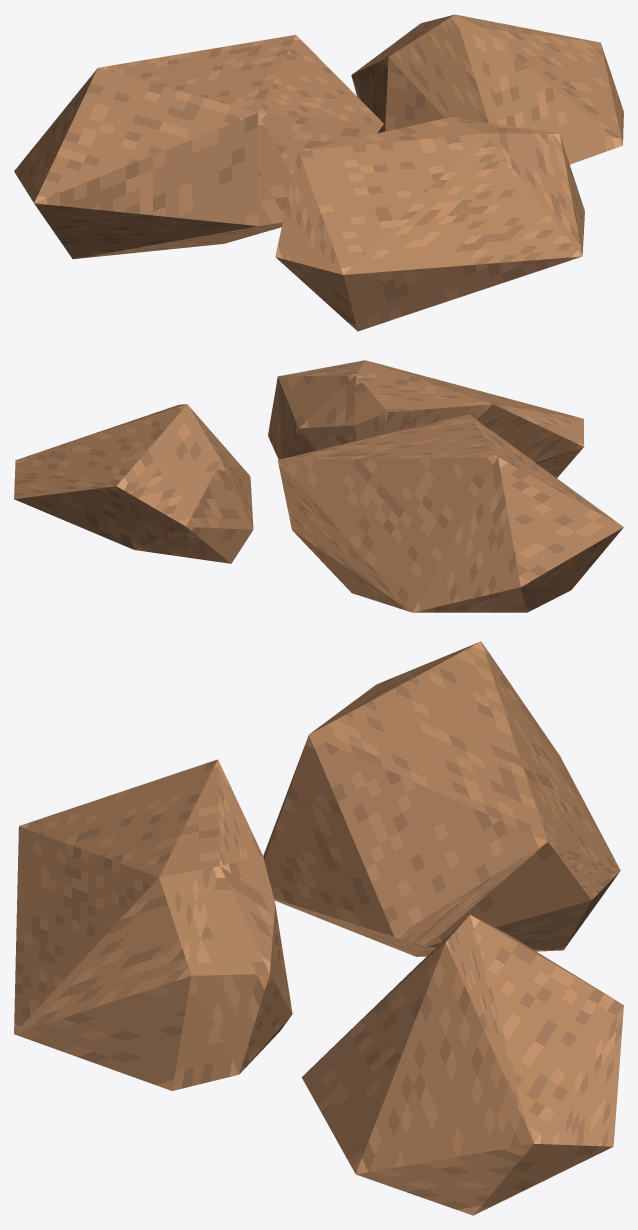
File: scrap_bronze.glb
3 renders of one model, top to bottom at view 1: azimuth 30°, elevation 25°; view 2: azimuth 150°, elevation 25°; view 3: azimuth 270°, elevation 25°, orthographic. The views are drawn at different scales.
Visible parts, largest first — view 1: block_bronze scrap chunk (×3); view 2: block_bronze scrap chunk (×3); view 3: block_bronze scrap chunk (×3).
Part boxes in pixels (bbox=[...]): block_bronze scrap chunk (×3): bbox=[14, 14, 623, 331]; block_bronze scrap chunk (×3): bbox=[14, 360, 623, 612]; block_bronze scrap chunk (×3): bbox=[14, 641, 623, 1215].
Size of the model in its own units: 0.0639 by 0.0179 by 0.0399.
Materials: 1 (1 with a texture image).
